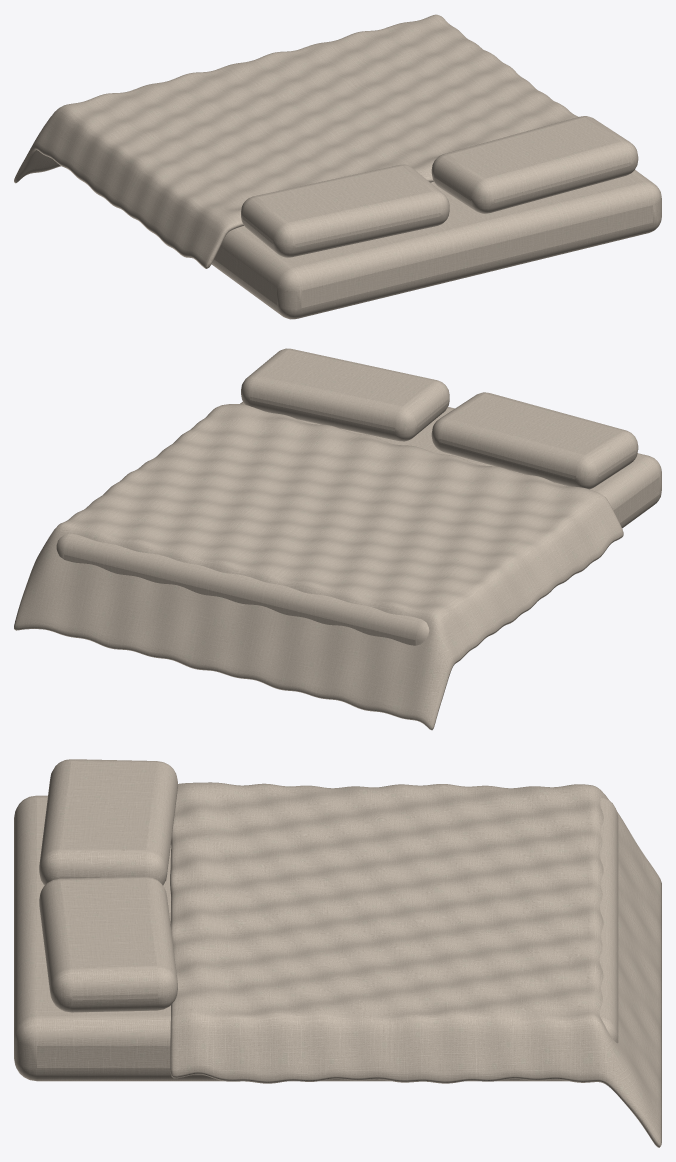
File: murphy_linen.glb
The picture shows the model from 3 angles, top to bottom: view 1: azimuth 30°, elevation 25°; view 2: azimuth 150°, elevation 25°; view 3: azimuth 270°, elevation 25°; orthographic projection. The views are drawn at different scales.
Visible parts, largest first — view 1: floor2_refined_east_bed_draped_duvet, floor2_refined_east_bed_mattress, floor2_refined_east_bed_pillow, floor2_refined_east_bed_pillow.001; view 2: floor2_refined_east_bed_draped_duvet, floor2_refined_east_bed_mattress, floor2_refined_east_bed_pillow.001, floor2_refined_east_bed_pillow; view 3: floor2_refined_east_bed_draped_duvet, floor2_refined_east_bed_mattress, floor2_refined_east_bed_pillow.001, floor2_refined_east_bed_pillow.
Part boxes in pixels (left/top/right/bottom): floor2_refined_east_bed_draped_duvet: left=14, top=14, right=578, bottom=268; floor2_refined_east_bed_mattress: left=211, top=170, right=661, bottom=319; floor2_refined_east_bed_pillow: left=241, top=164, right=449, bottom=257; floor2_refined_east_bed_pillow.001: left=431, top=116, right=638, bottom=213; floor2_refined_east_bed_draped_duvet: left=14, top=404, right=623, bottom=730; floor2_refined_east_bed_mattress: left=56, top=402, right=661, bottom=645; floor2_refined_east_bed_pillow.001: left=241, top=348, right=449, bottom=441; floor2_refined_east_bed_pillow: left=431, top=392, right=638, bottom=489; floor2_refined_east_bed_draped_duvet: left=170, top=782, right=661, bottom=1147; floor2_refined_east_bed_mattress: left=14, top=795, right=618, bottom=1081; floor2_refined_east_bed_pillow.001: left=39, top=876, right=177, bottom=1012; floor2_refined_east_bed_pillow: left=39, top=759, right=177, bottom=885.
Size of the model in its own units: 2.02 by 0.556 by 2.12.
Materials: 1 (1 with a texture image).
